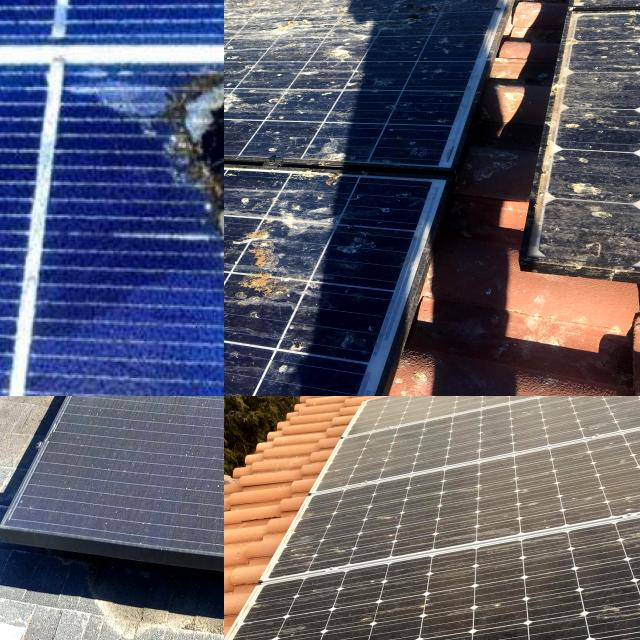bird: (230, 210, 308, 315), (550, 162, 632, 239), (234, 330, 353, 382), (410, 0, 552, 36), (224, 282, 261, 396), (224, 9, 259, 99), (292, 136, 372, 172), (314, 34, 374, 76), (224, 82, 275, 124), (609, 509, 640, 550)
dust: (117, 396, 224, 552), (32, 396, 122, 454), (145, 396, 224, 452)
shadow: (122, 54, 224, 325)
